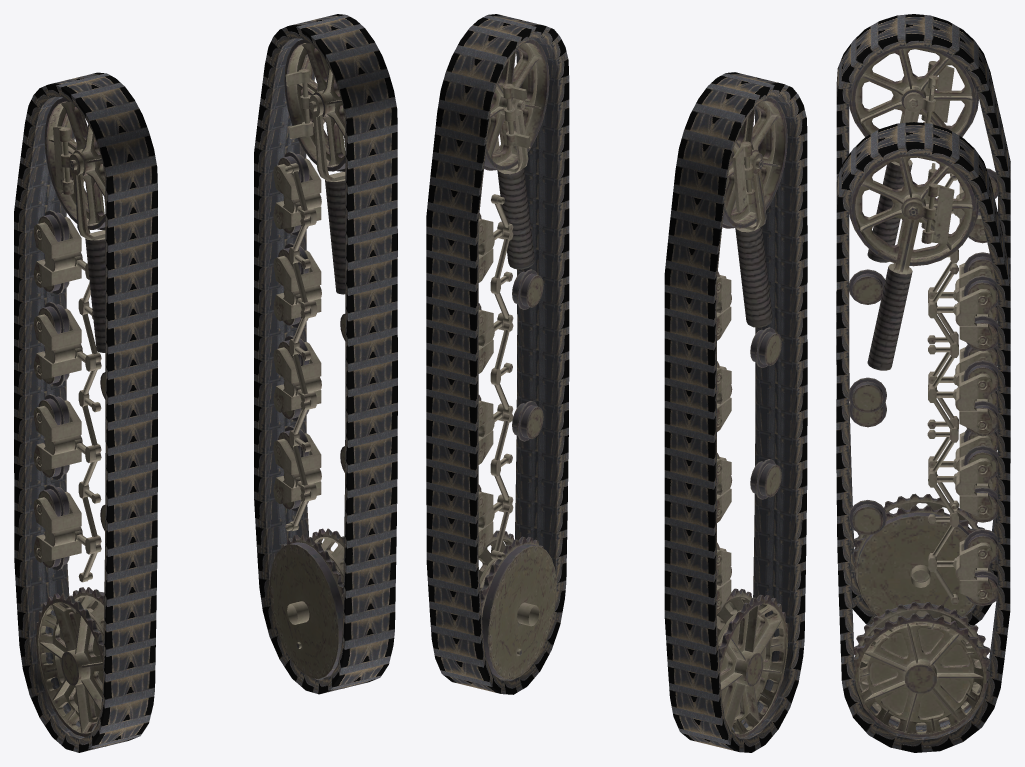
File: Chassis.glb
3 views of the same model, side by side, from view 1: azimuth 30°, elevation 25°; view 2: azimuth 150°, elevation 25°; view 3: azimuth 270°, elevation 25° (orthographic). The views are drawn at different scales.
Visible parts, largest first — view 1: set_1_group_0, set_0_group_0, set_2_group_0, set_3_group_0; view 2: set_1_group_0, set_0_group_0, set_3_group_0, set_2_group_0; view 3: set_3_group_0, set_2_group_0, set_0_group_0, set_1_group_0.
Boxes of the visible parts, x1=… form: set_1_group_0: x1=14, y1=72, x2=157, y2=752; set_0_group_0: x1=254, y1=14, x2=397, y2=694; set_2_group_0: x1=33, y1=98, x2=105, y2=736; set_3_group_0: x1=269, y1=39, x2=345, y2=679; set_1_group_0: x1=664, y1=72, x2=807, y2=752; set_0_group_0: x1=426, y1=14, x2=569, y2=694; set_3_group_0: x1=478, y1=39, x2=556, y2=679; set_2_group_0: x1=716, y1=97, x2=788, y2=737; set_3_group_0: x1=849, y1=153, x2=997, y2=737; set_2_group_0: x1=849, y1=45, x2=997, y2=616; set_0_group_0: x1=836, y1=122, x2=1010, y2=752; set_1_group_0: x1=836, y1=14, x2=1010, y2=625.
Bounding box in the file's own units: 1.79 × 3.9 × 1.01.
Materials: 4 (4 with a texture image).
